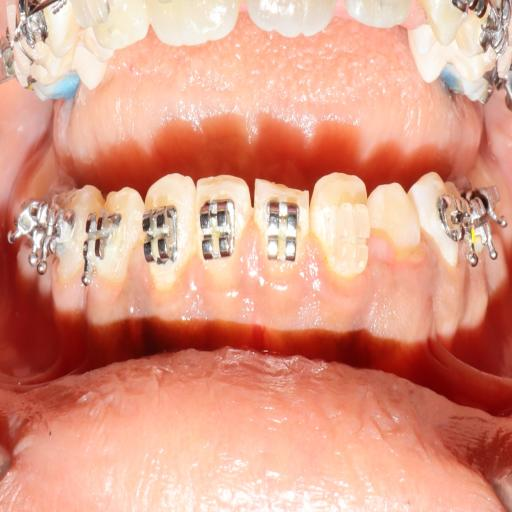correct_brace: (197, 192, 239, 263), (265, 192, 300, 270), (141, 199, 180, 269), (82, 205, 119, 267)
incorrect_brace: (309, 166, 372, 276), (139, 172, 196, 291)
